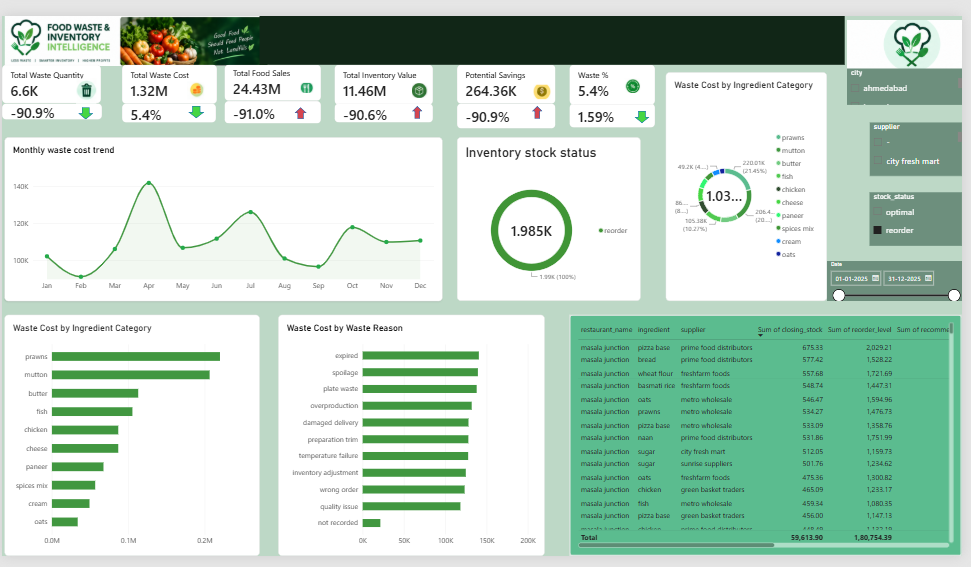

The page's visual inventory and layout, read from the dashboard file:
{"tool":"powerbi","page":{"name":"Dashboard","canvas":[1920,1080],"ordinal":2},"visuals":[{"type":"textbox","box":[0,0,1920,158.6],"z":0},{"type":"image","box":[0,0,540,100],"z":1000},{"type":"cardVisual","fields":{"Data":["DimDate.waste cost change%"]},"box":[0,174.4,220,38.6],"z":2000},{"type":"shape","box":[152.2,183.3,30,24.3],"z":3000},{"type":"cardVisual","fields":{"Data":["DimDate.Total Waste Qty"]},"box":[0,96.7,198.9,77.8],"z":4000},{"type":"image","box":[136.7,124.4,62.2,50],"z":5000},{"type":"cardVisual","fields":{"Data":["DimDate.Total Waste Cost"]},"box":[240,96.7,190,78.9],"z":6000},{"type":"cardVisual","fields":{"Data":["DimDate.Total Waste Cost %"]},"box":[241.1,174.4,188.9,38.9],"z":7000},{"type":"shape","box":[372.2,181.1,32.2,24.4],"z":8000},{"type":"image","box":[368.9,131.1,35.6,37.8],"z":9000},{"type":"cardVisual","fields":{"Data":["DimDate.Total Food Sales"]},"box":[444.4,96.7,193.3,72.2],"z":10000},{"type":"cardVisual","fields":{"Data":["DimDate.Food Sales Change %"]},"box":[444.4,168.9,193.3,45.6],"z":11000},{"type":"shape","box":[585.6,183.3,24.4,23.3],"z":12000},{"type":"image","box":[597.8,124.4,24.4,37.8],"z":13000},{"type":"cardVisual","fields":{"Data":["DimDate.Total Inventory Value"]},"box":[665.6,96.7,197.8,80],"z":14000},{"type":"cardVisual","fields":{"Data":["DimDate.Inventory Value Change %"]},"box":[665.6,175.6,197.8,38.9],"z":15000},{"type":"shape","box":[820,181.1,21.1,25.6],"z":16000},{"type":"image","box":[820,133.3,31.1,33.3],"z":17000},{"type":"cardVisual","fields":{"Data":["DimDate.Potential Savings"]},"box":[910,97.8,197.8,78.9],"z":18000},{"type":"cardVisual","fields":{"Data":["DimDate.Potential Savings Change %"]},"box":[910,174.4,197.8,50],"z":19000},{"type":"cardVisual","fields":{"Data":["DimDate.Waste % Change"]},"box":[1134.4,175.6,171.1,48.9],"z":20000},{"type":"cardVisual","fields":{"Data":["DimDate.Waste %"]},"box":[1134.4,96.7,171.1,80],"z":21000},{"type":"shape","box":[1264.4,188.9,30,24.3],"z":22000},{"type":"shape","box":[1058.9,180,21.1,25.6],"z":23000},{"type":"image","box":[1062.2,136.7,35.6,28.9],"z":24000},{"type":"image","box":[1243.3,124.4,35.6,28.9],"z":25000},{"type":"lineChart","title":"Monthly waste cost trend","fields":{"Category":["DimDate.Month"],"Y":["DimDate.Total Waste Cost"]},"box":[6,242,876,328],"z":26000},{"type":"clusteredBarChart","title":"Waste Cost by Waste Reason","fields":{"Category":["FactInventory.waste_reason"],"Y":["DimDate.Total Waste Cost"]},"box":[552.5,597.5,532.5,482.5],"z":28000},{"type":"donutChart","title":"Waste Cost by Ingredient Category","fields":{"Category":["FactInventory.ingredient"],"Y":["DimDate.Total Waste Cost"]},"box":[1322,132,346,436],"z":29000},{"type":"donutChart","title":"Inventory stock status","fields":{"Category":["FactInventory.stock_status"],"Y":["CountNonNull(FactInventory.record_id)"]},"box":[910,242,367.5,327.5],"z":30000},{"type":"tableEx","fields":{"Values":["FactInventory.restaurant_name","FactInventory.ingredient","FactInventory.supplier","Sum(FactInventory.closing_stock)","Sum(FactInventory.reorder_level)","Sum(FactInventory.recommended_reorder_point)","Sum(FactInventory.days_until_expiry)","FactInventory.expiry_risk","FactInventory.stock_status","Sum(FactInventory.potential_savings_20pct)"]},"box":[1135,597.5,785,482.5],"z":31000},{"type":"image","box":[1685,0,235,200],"z":32000},{"type":"clusteredBarChart","title":"Waste Cost by Ingredient Category","fields":{"Category":["FactInventory.ingredient"],"Y":["DimDate.Total Waste Cost"]},"box":[5,597.5,510,482.5],"z":32001},{"type":"slicer","fields":{"Values":["DimDate.Date"]},"box":[1010,17.5,377.5,80],"z":32002},{"type":"slicer","fields":{"Values":["FactInventory.city"]},"box":[1435,27.5,230,72.5],"z":32003},{"type":"slicer","fields":{"Values":["FactInventory.stock_status"]},"box":[1735,352.5,185,107.5],"z":32004},{"type":"slicer","fields":{"Values":["FactInventory.supplier"]},"box":[1735,212.5,185,107.5],"z":32005}]}

Visuals, with their boxes in screenshot pixels (x1, y1, x2, y2):
textbox: {"left": 0, "top": 13, "right": 958, "bottom": 92}
image: {"left": 0, "top": 13, "right": 269, "bottom": 63}
cardVisual - DimDate.waste cost change%: {"left": 0, "top": 100, "right": 110, "bottom": 119}
shape: {"left": 76, "top": 104, "right": 91, "bottom": 116}
cardVisual - DimDate.Total Waste Qty: {"left": 0, "top": 61, "right": 99, "bottom": 100}
image: {"left": 68, "top": 75, "right": 99, "bottom": 100}
cardVisual - DimDate.Total Waste Cost: {"left": 120, "top": 61, "right": 214, "bottom": 100}
cardVisual - DimDate.Total Waste Cost %: {"left": 120, "top": 100, "right": 214, "bottom": 119}
shape: {"left": 186, "top": 103, "right": 202, "bottom": 115}
image: {"left": 184, "top": 78, "right": 202, "bottom": 97}
cardVisual - DimDate.Total Food Sales: {"left": 222, "top": 61, "right": 318, "bottom": 97}
cardVisual - DimDate.Food Sales Change %: {"left": 222, "top": 97, "right": 318, "bottom": 120}
shape: {"left": 292, "top": 104, "right": 304, "bottom": 116}
image: {"left": 298, "top": 75, "right": 310, "bottom": 94}
cardVisual - DimDate.Total Inventory Value: {"left": 332, "top": 61, "right": 431, "bottom": 101}
cardVisual - DimDate.Inventory Value Change %: {"left": 332, "top": 100, "right": 431, "bottom": 120}
shape: {"left": 409, "top": 103, "right": 419, "bottom": 116}
image: {"left": 409, "top": 79, "right": 424, "bottom": 96}
cardVisual - DimDate.Potential Savings: {"left": 454, "top": 61, "right": 553, "bottom": 101}
cardVisual - DimDate.Potential Savings Change %: {"left": 454, "top": 100, "right": 553, "bottom": 125}
cardVisual - DimDate.Waste % Change: {"left": 566, "top": 100, "right": 651, "bottom": 125}
cardVisual - DimDate.Waste %: {"left": 566, "top": 61, "right": 651, "bottom": 101}
shape: {"left": 631, "top": 107, "right": 646, "bottom": 119}
shape: {"left": 528, "top": 102, "right": 539, "bottom": 115}
image: {"left": 530, "top": 81, "right": 548, "bottom": 95}
image: {"left": 620, "top": 75, "right": 638, "bottom": 89}
"Monthly waste cost trend" lineChart: {"left": 3, "top": 133, "right": 440, "bottom": 297}
"Waste Cost by Waste Reason" clusteredBarChart: {"left": 276, "top": 311, "right": 541, "bottom": 551}
"Waste Cost by Ingredient Category" donutChart: {"left": 659, "top": 78, "right": 832, "bottom": 296}
"Inventory stock status" donutChart: {"left": 454, "top": 133, "right": 637, "bottom": 297}
tableEx - FactInventory.restaurant_name x FactInventory.ingredient: {"left": 566, "top": 311, "right": 958, "bottom": 551}
image: {"left": 840, "top": 13, "right": 958, "bottom": 112}
"Waste Cost by Ingredient Category" clusteredBarChart: {"left": 2, "top": 311, "right": 257, "bottom": 551}
slicer - DimDate.Date: {"left": 504, "top": 21, "right": 692, "bottom": 61}
slicer - FactInventory.city: {"left": 716, "top": 26, "right": 830, "bottom": 63}
slicer - FactInventory.stock_status: {"left": 865, "top": 188, "right": 958, "bottom": 242}
slicer - FactInventory.supplier: {"left": 865, "top": 119, "right": 958, "bottom": 172}
